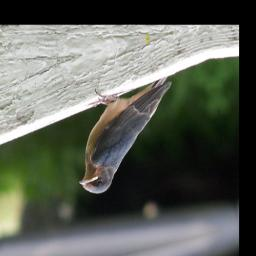Swallow: (63, 70, 188, 199)
